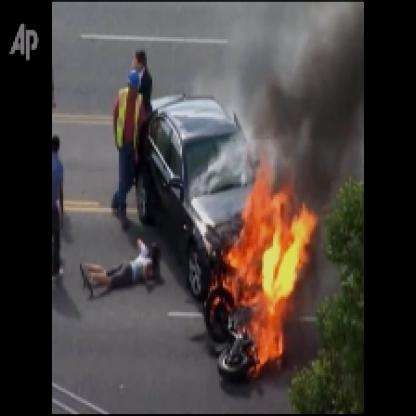Fire: (204, 152, 314, 381), (238, 4, 360, 167)
